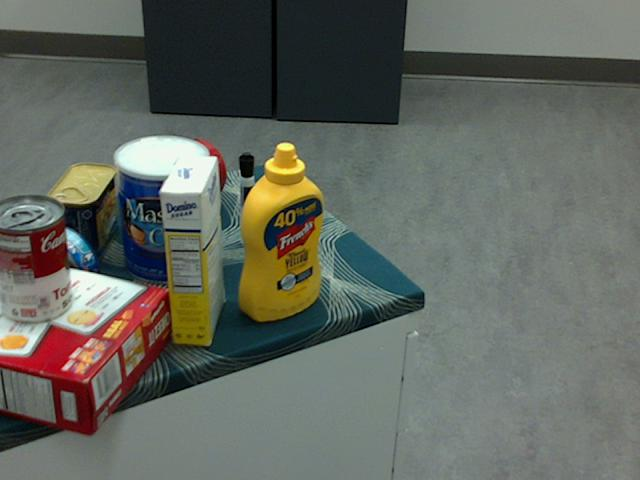cracker_box: (0, 250, 170, 435)
large_marker: (239, 152, 256, 245)
master_chef_can: (112, 135, 209, 285)
mug: (134, 138, 225, 218)
mustard_bottle: (238, 141, 324, 320)
potted_meat_can: (47, 161, 116, 264)
sugar_box: (158, 154, 225, 345)
tomato_soup_can: (0, 195, 71, 323)
tuna_fish_can: (16, 226, 98, 309)
